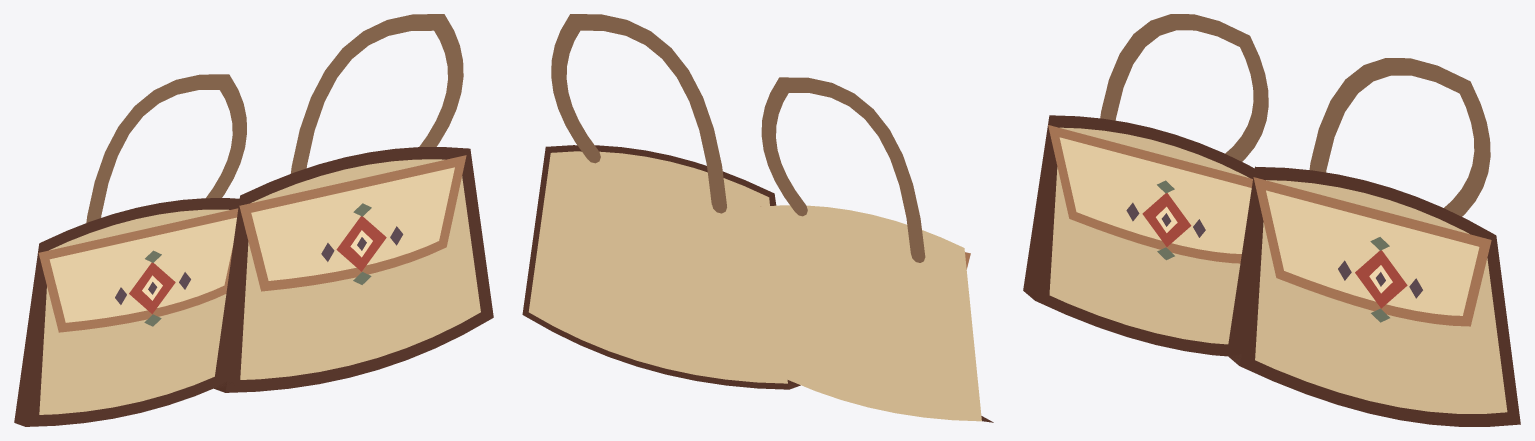
The model's file is traiste.glb.
3 views of the same model, side by side, from view 1: azimuth 30°, elevation 25°; view 2: azimuth 150°, elevation 25°; view 3: azimuth 330°, elevation 25° (orthographic). The views are drawn at different scales.
Visible parts, largest first — view 1: Două traiste lângă laviță.001; view 2: Două traiste lângă laviță.001; view 3: Două traiste lângă laviță.001.
Part boxes in pixels (bbox=[...]): Două traiste lângă laviță.001: bbox=[14, 14, 493, 426]; Două traiste lângă laviță.001: bbox=[522, 14, 993, 422]; Două traiste lângă laviță.001: bbox=[1023, 14, 1520, 426].
Bounding box in the file's own units: 1.46 × 1.01 × 0.0243.
